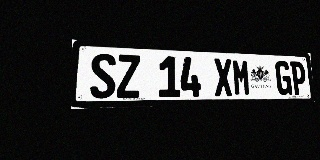1: (158, 56, 180, 97)
4: (180, 57, 201, 97)
G: (275, 61, 292, 95)
M: (232, 59, 251, 96)
P: (290, 61, 307, 95)
S: (90, 53, 116, 99)
X: (213, 58, 233, 96)
Z: (116, 54, 141, 98)
